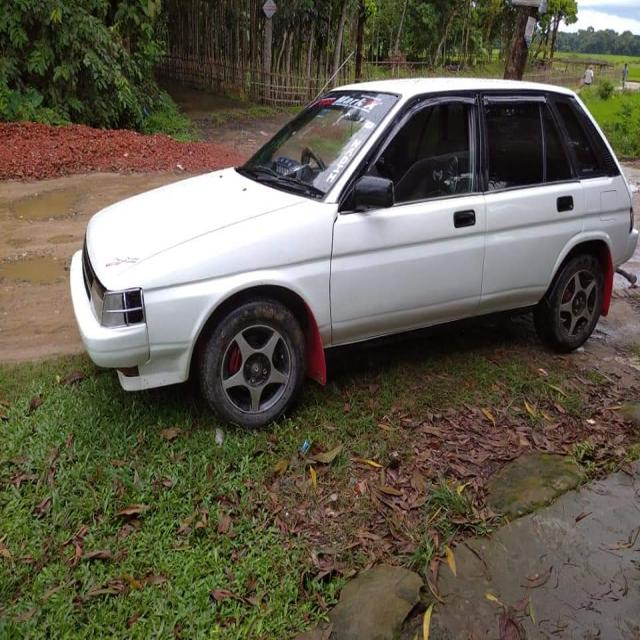white: (86, 74, 640, 352)
